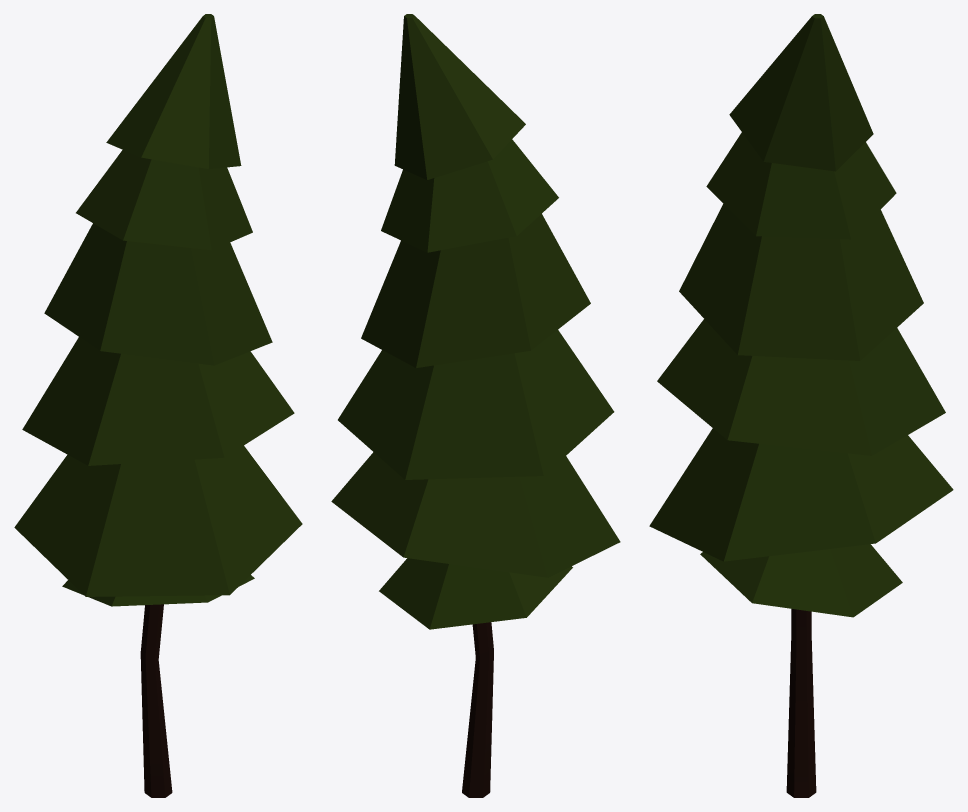
File: three_tree.fbx
3 views of the same model, side by side, from view 1: azimuth 30°, elevation 25°; view 2: azimuth 150°, elevation 25°; view 3: azimuth 270°, elevation 25° (orthographic). The views are drawn at different scales.
Visible parts, largest first — view 1: three_tree; view 2: three_tree; view 3: three_tree.
Boxes of the visible parts, x1,y1,x2,y2 form: three_tree: (14, 14, 302, 797); three_tree: (331, 14, 620, 797); three_tree: (649, 14, 953, 797).
Size of the model in its own units: 533 by 1789 by 613.
